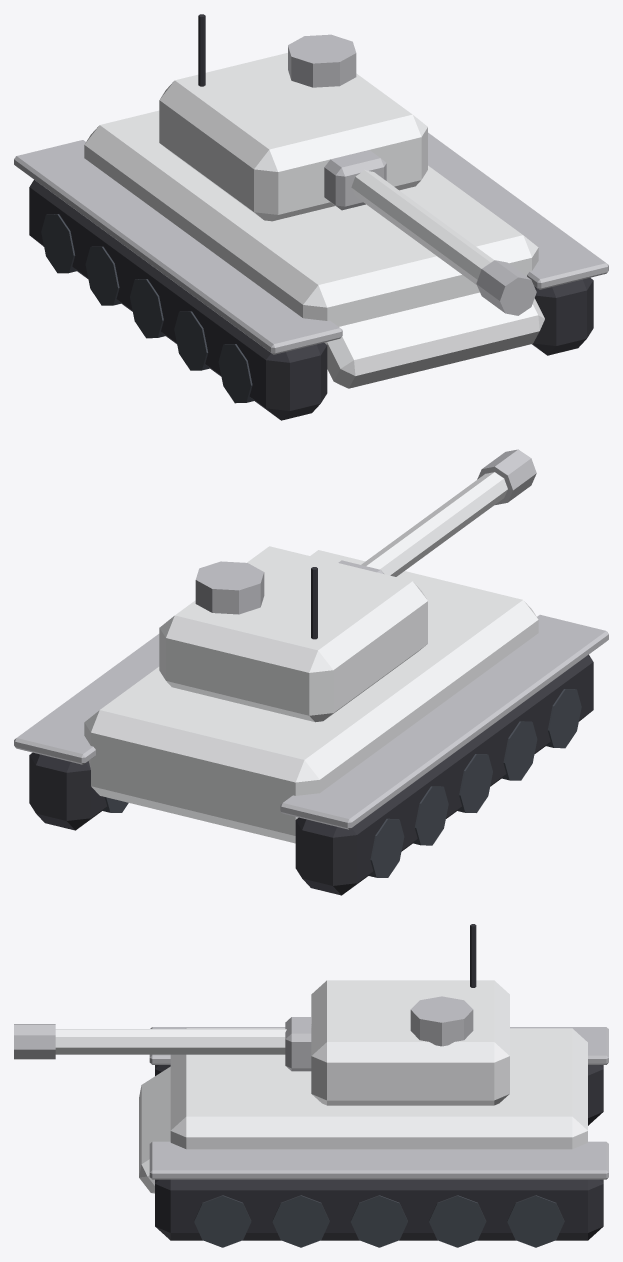
Rendered from WinterTank.fbx.
3 views of the same model, one above another, from view 1: azimuth 30°, elevation 25°; view 2: azimuth 150°, elevation 25°; view 3: azimuth 270°, elevation 25° (orthographic). The views are drawn at different scales.
Parts seen in each view (by area): view 1: WinterTank, WinterTank_Turret; view 2: WinterTank, WinterTank_Turret; view 3: WinterTank, WinterTank_Turret.
Boxes of the visible parts, <box> form: WinterTank: <box>14,110,608,420</box>; WinterTank_Turret: <box>159,14,536,315</box>; WinterTank: <box>14,550,608,895</box>; WinterTank_Turret: <box>159,449,536,722</box>; WinterTank: <box>139,1027,608,1247</box>; WinterTank_Turret: <box>14,924,509,1105</box>.
Size of the model in its own units: 6.6 by 4.8 by 11.4.
Materials: 1 (1 with a texture image).
